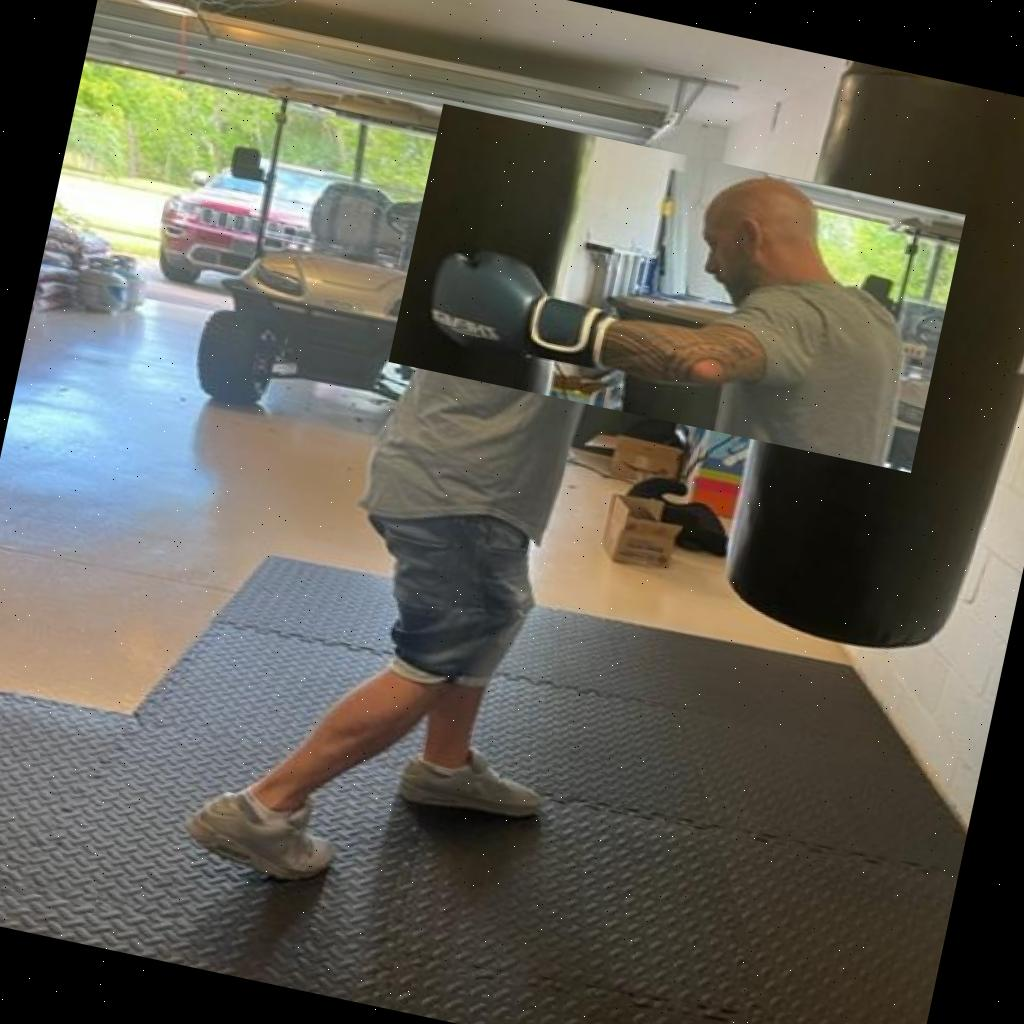hook: (388, 104, 966, 474)
